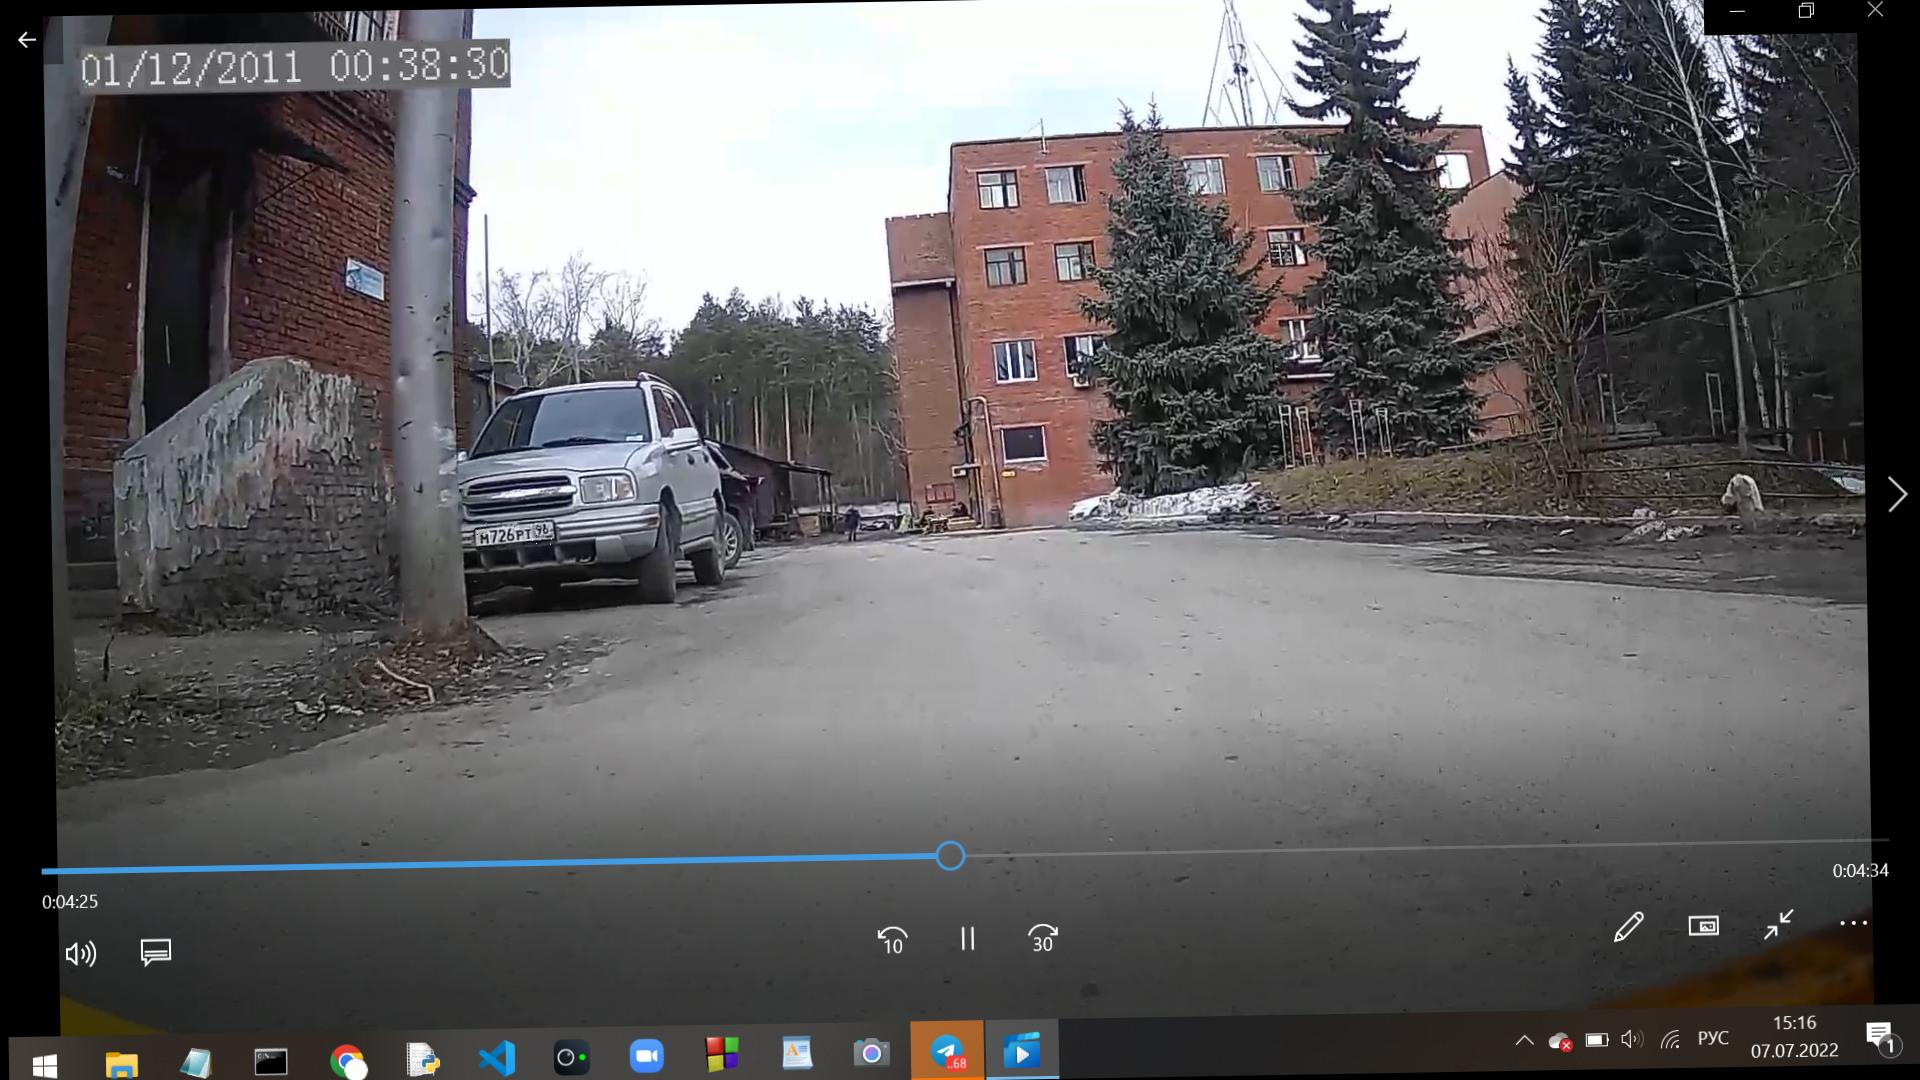plate: (478, 523, 554, 547)
